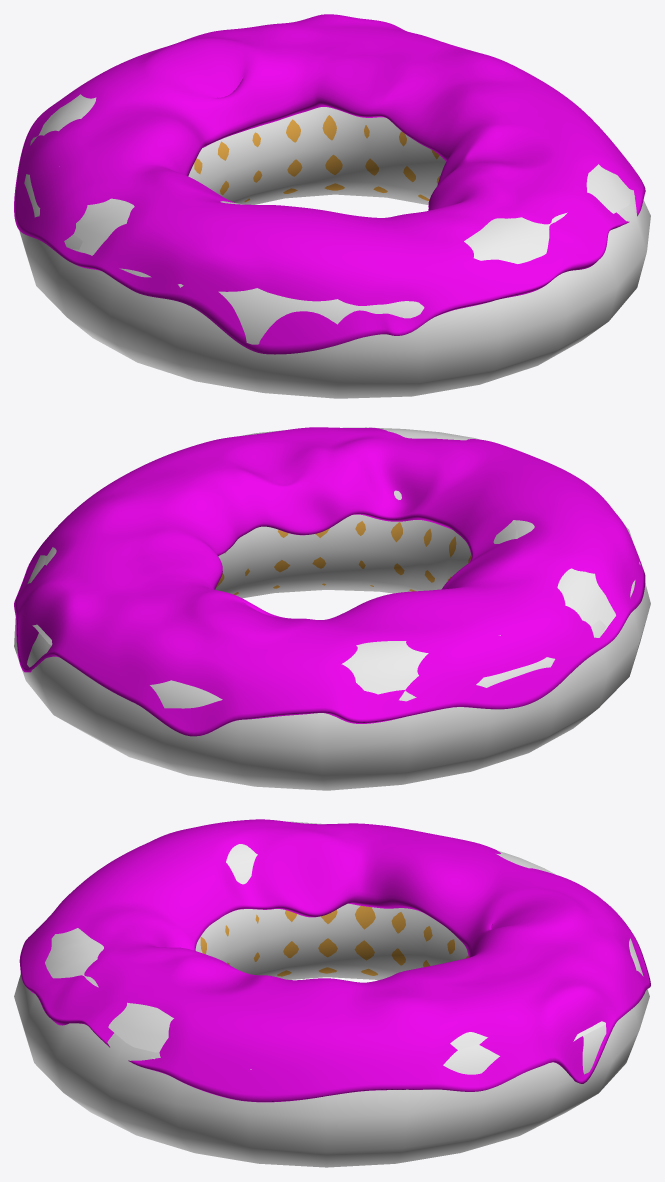
The model's file is donut1.glb.
The picture shows the model from 3 angles, top to bottom: view 1: azimuth 30°, elevation 25°; view 2: azimuth 150°, elevation 25°; view 3: azimuth 270°, elevation 25°; orthographic projection. The views are drawn at different scales.
Parts seen in each view (by area): view 1: sugar, bread.001, sugar.001, bread; view 2: sugar, bread.001, sugar.001, bread; view 3: sugar, bread.001, sugar.001, bread.
Part boxes in pixels (bbox=[...]): sugar: bbox=[14, 14, 645, 354]; bread.001: bbox=[19, 107, 650, 398]; sugar.001: bbox=[38, 94, 634, 317]; bread: bbox=[194, 115, 439, 202]; sugar: bbox=[14, 427, 645, 736]; bread.001: bbox=[14, 514, 650, 790]; sugar.001: bbox=[32, 427, 615, 694]; bread: bbox=[216, 521, 470, 594]; sugar: bbox=[19, 819, 650, 1102]; bread.001: bbox=[14, 853, 649, 1167]; sugar.001: bbox=[45, 821, 605, 1059]; bread: bbox=[200, 906, 468, 976].
Size of what is drawn, in the model's own units: 3.88 by 1.12 by 4.17.
